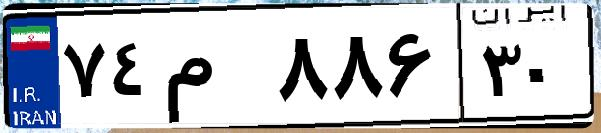0: (525, 38, 570, 115)
3: (475, 38, 525, 113)
4: (110, 28, 158, 98)
6: (385, 28, 445, 110)
7: (57, 26, 110, 100)
8: (270, 28, 330, 110), (330, 28, 385, 110)
م: (158, 20, 270, 120)
